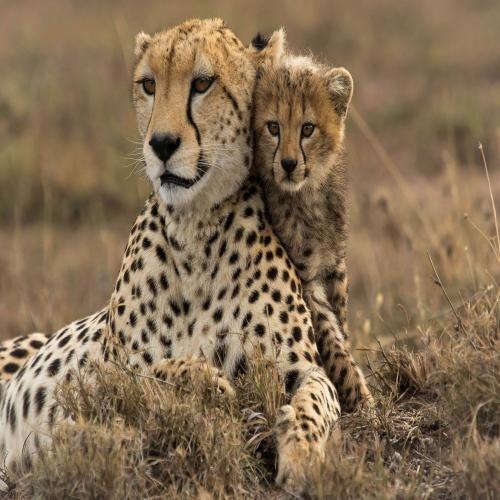cheetah-endangered: (0, 22, 340, 487), (256, 48, 352, 433)
